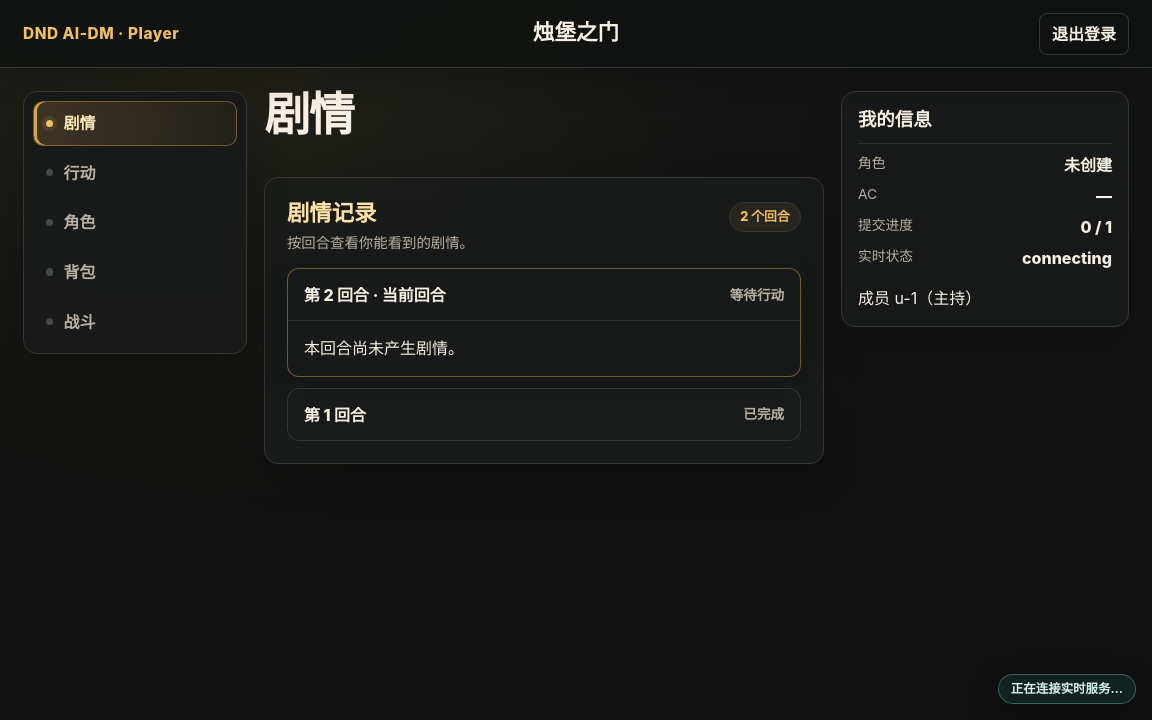
剧情页 › 新回合出现后仍可展开查看上一回合剧情
Check: the text "本回合尚未产生剧情。" is shown, box [304,338,464,358]
What coordinates should you click on to do the following:
click the button "第 1 回合 已完成"
I would click on:
 (348, 415)
Its box is [288,389,800,440].
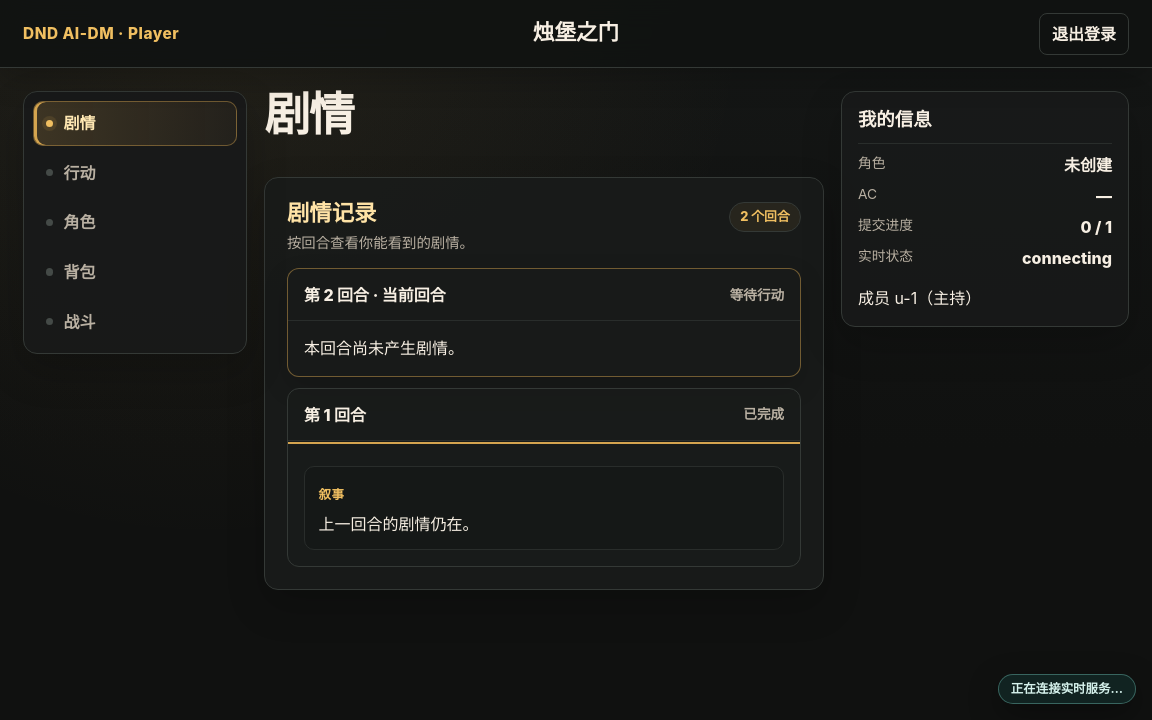
Check: the text "上一回合的剧情仍在。" is shown, box [318,514,478,534]
